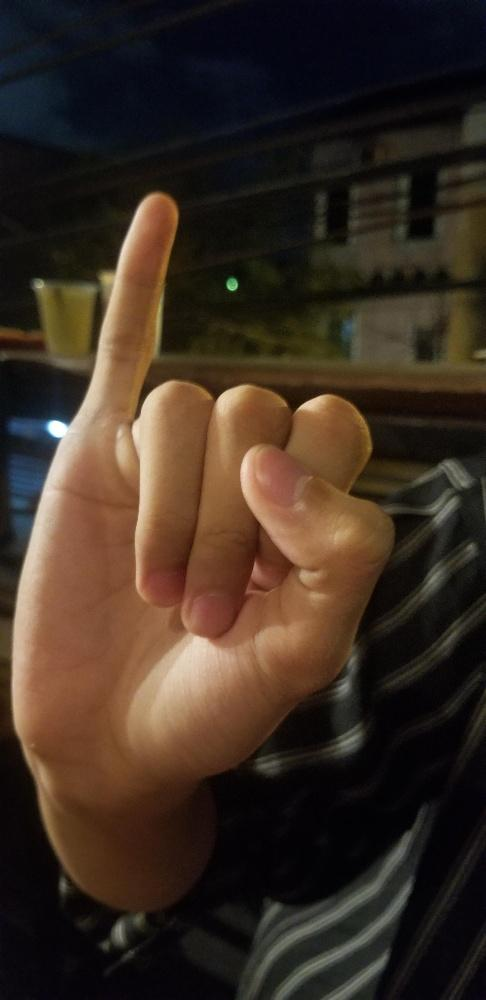i: (10, 190, 397, 782)
